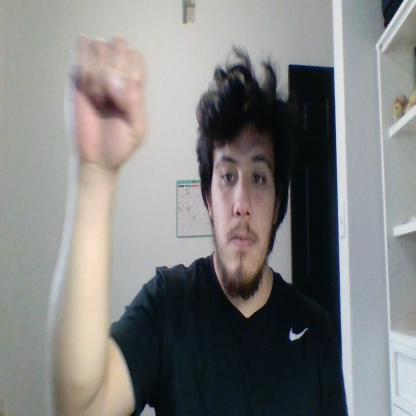S: (64, 34, 148, 167)
